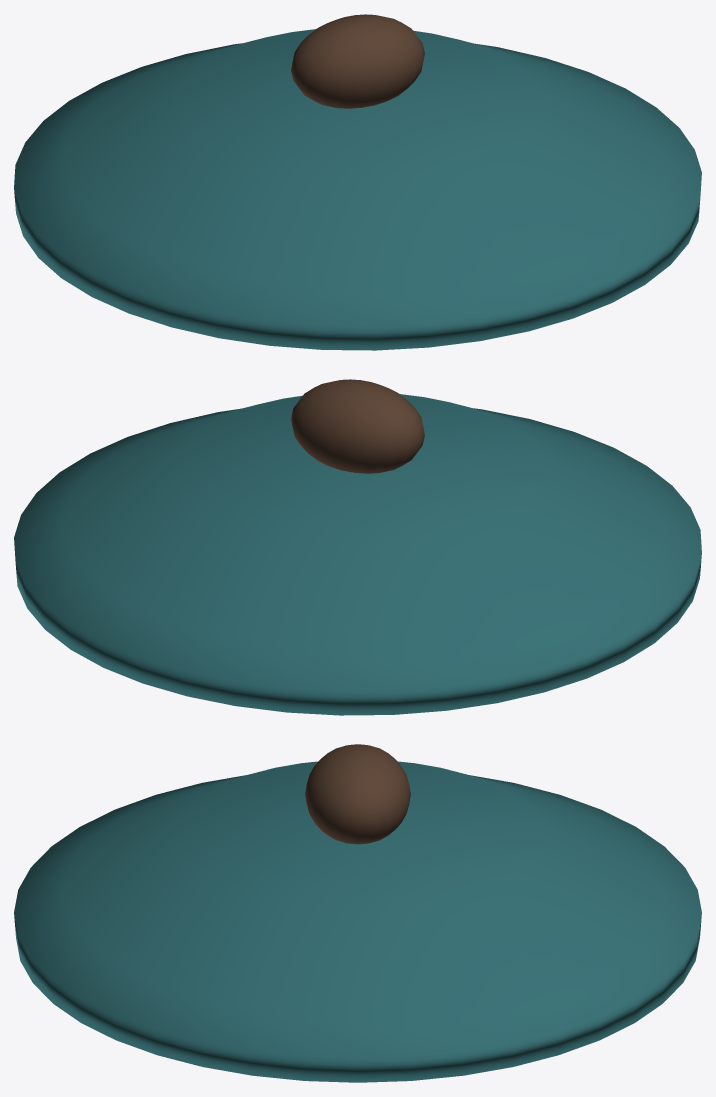
The model's file is pot-lid.obj.
3 renders of one model, top to bottom at view 1: azimuth 30°, elevation 25°; view 2: azimuth 150°, elevation 25°; view 3: azimuth 270°, elevation 25°, orthographic.
Parts seen in each view (by area): view 1: pot-lid_teal, pot-lid_cocoa; view 2: pot-lid_teal, pot-lid_cocoa; view 3: pot-lid_teal, pot-lid_cocoa.
Part boxes in pixels (<box>): pot-lid_teal: <box>14,29,701,350</box>; pot-lid_cocoa: <box>291,14,424,108</box>; pot-lid_teal: <box>14,394,701,715</box>; pot-lid_cocoa: <box>291,379,424,473</box>; pot-lid_teal: <box>14,761,701,1082</box>; pot-lid_cocoa: <box>305,744,410,844</box>.
Size of the model in its own units: 0.338 by 0.1 by 0.338.
